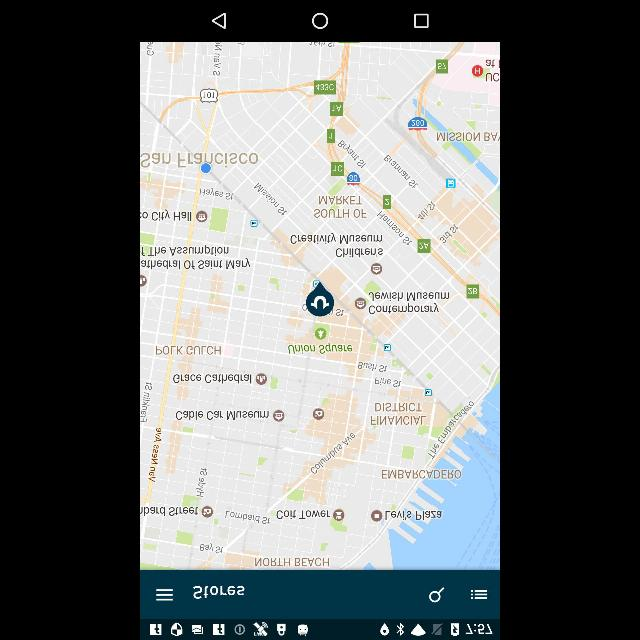icon: (429, 586, 445, 602), (312, 13, 328, 29), (156, 588, 174, 602), (212, 13, 226, 29), (470, 588, 488, 600), (414, 14, 428, 28)
map: (140, 42, 500, 570)
panel: (140, 1, 500, 42)
text: (192, 583, 246, 601)
toolbar: (140, 570, 500, 620)
uppertaskbar: (140, 620, 500, 640)
